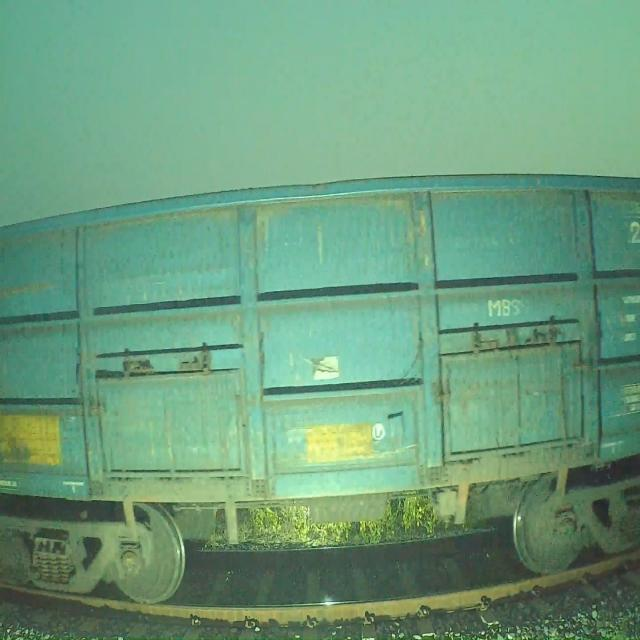WAgon-uic: (0, 165, 640, 610)
uic: (623, 210, 640, 255)
